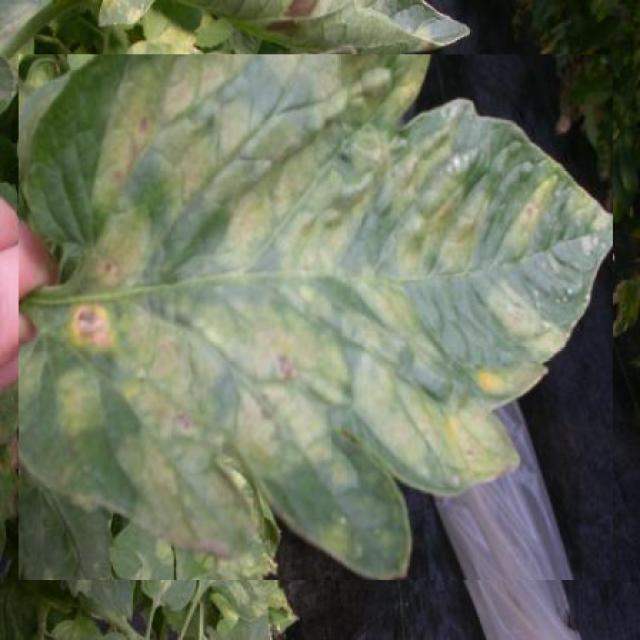Leaf Mold: (18, 54, 613, 580)
